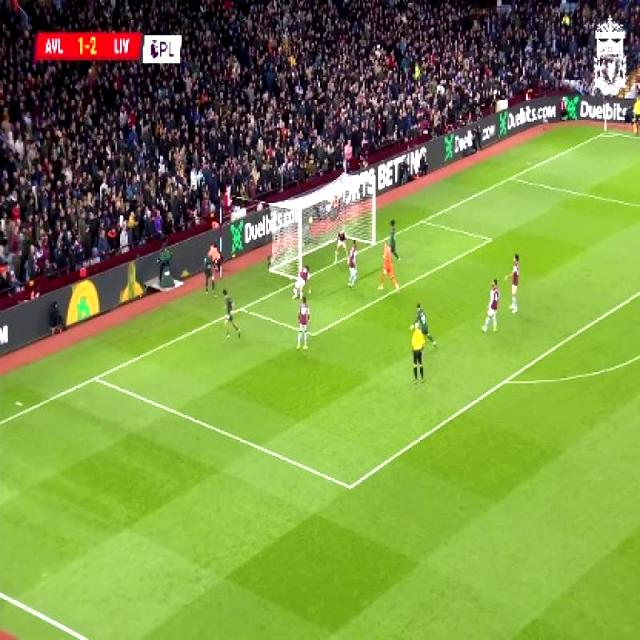bigarea_bottom_inner: (336, 469, 362, 501)
bigarea_bottom_outter: (86, 366, 104, 388)
bigarea_top_outter: (504, 168, 518, 185)
bottom_arc_area_intersection: (494, 366, 516, 394)
corner: (597, 124, 615, 139)
smallarea_bottom_inner: (304, 322, 322, 343)
smallarea_bottom_outter: (232, 297, 250, 318)
smallarea_top_inner: (482, 228, 496, 248)
smallarea_top_outter: (414, 211, 431, 231)
